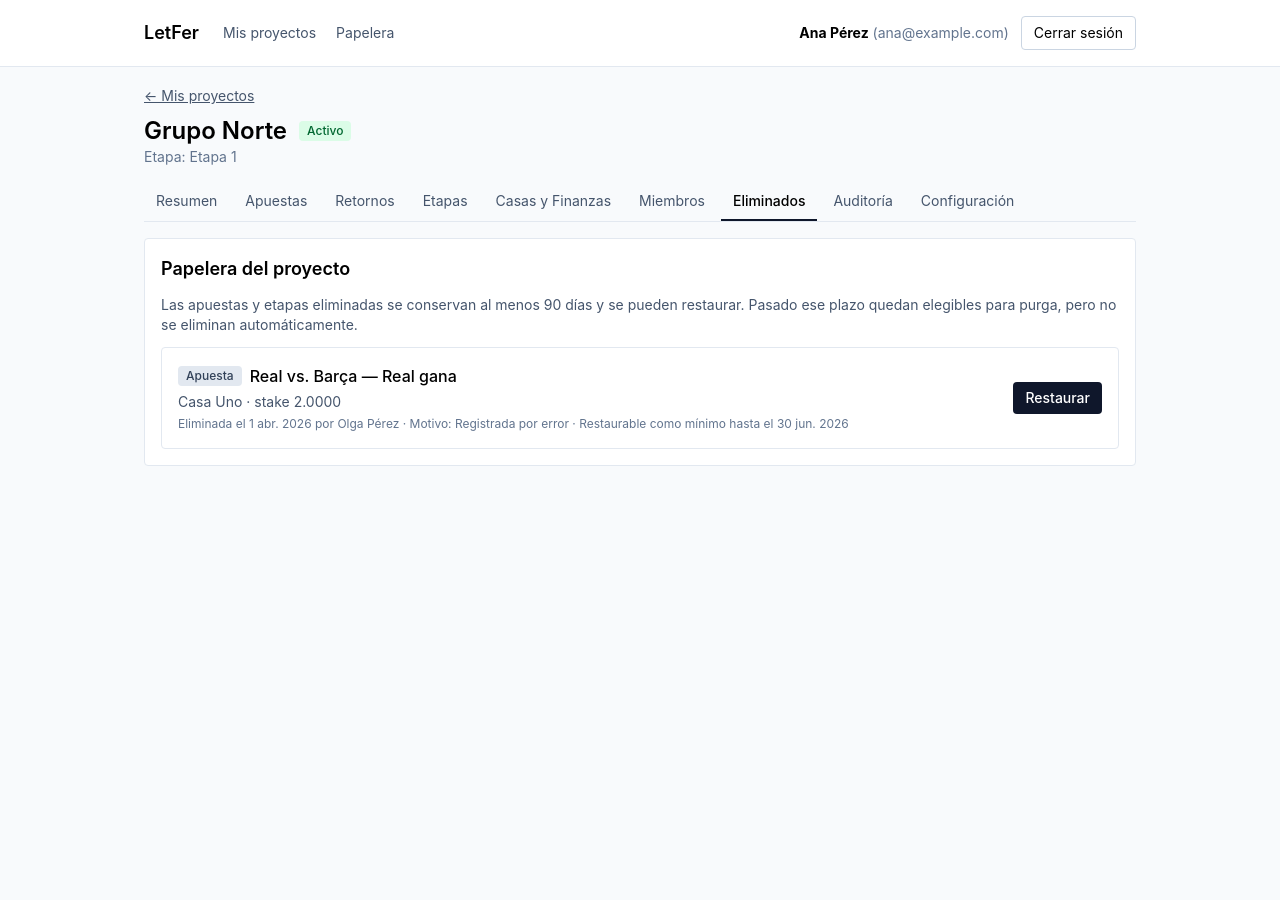
Scenario: restaurar una apuesta liquidada desde la papelera del proyecto (D-A11) › pide motivo y avisa que vuelve a registrar el ledger
Click the button with aria-label "Restaurar Real vs. Barça — Real gana".
click(1058, 398)  # box [1013,382,1102,414]
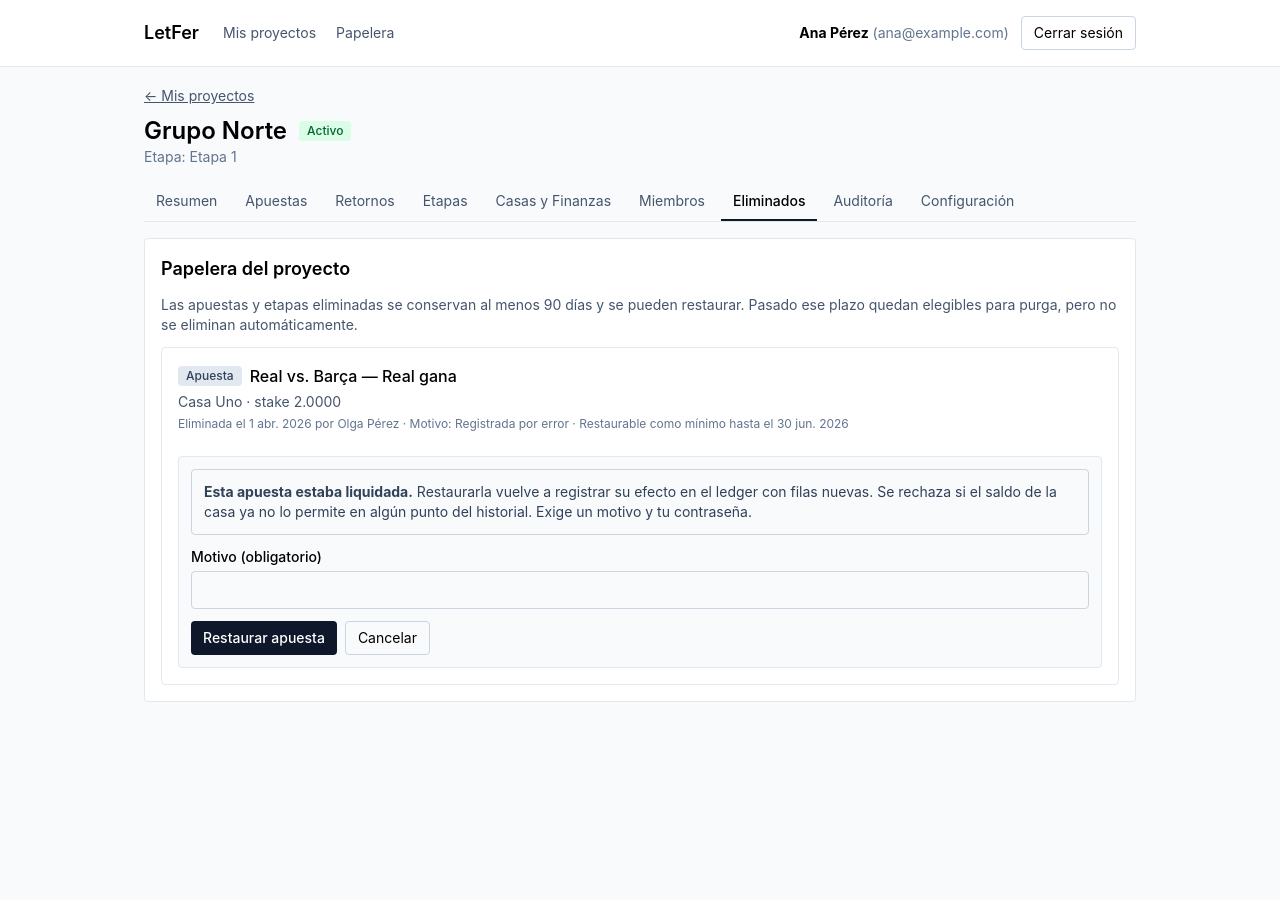
Expected: the text "vuelve a registrar su efecto en el ledger" is shown, [204,483,1057,520]
Click the button "Restaurar apuesta".
click(264, 638)  # box [191,621,337,655]
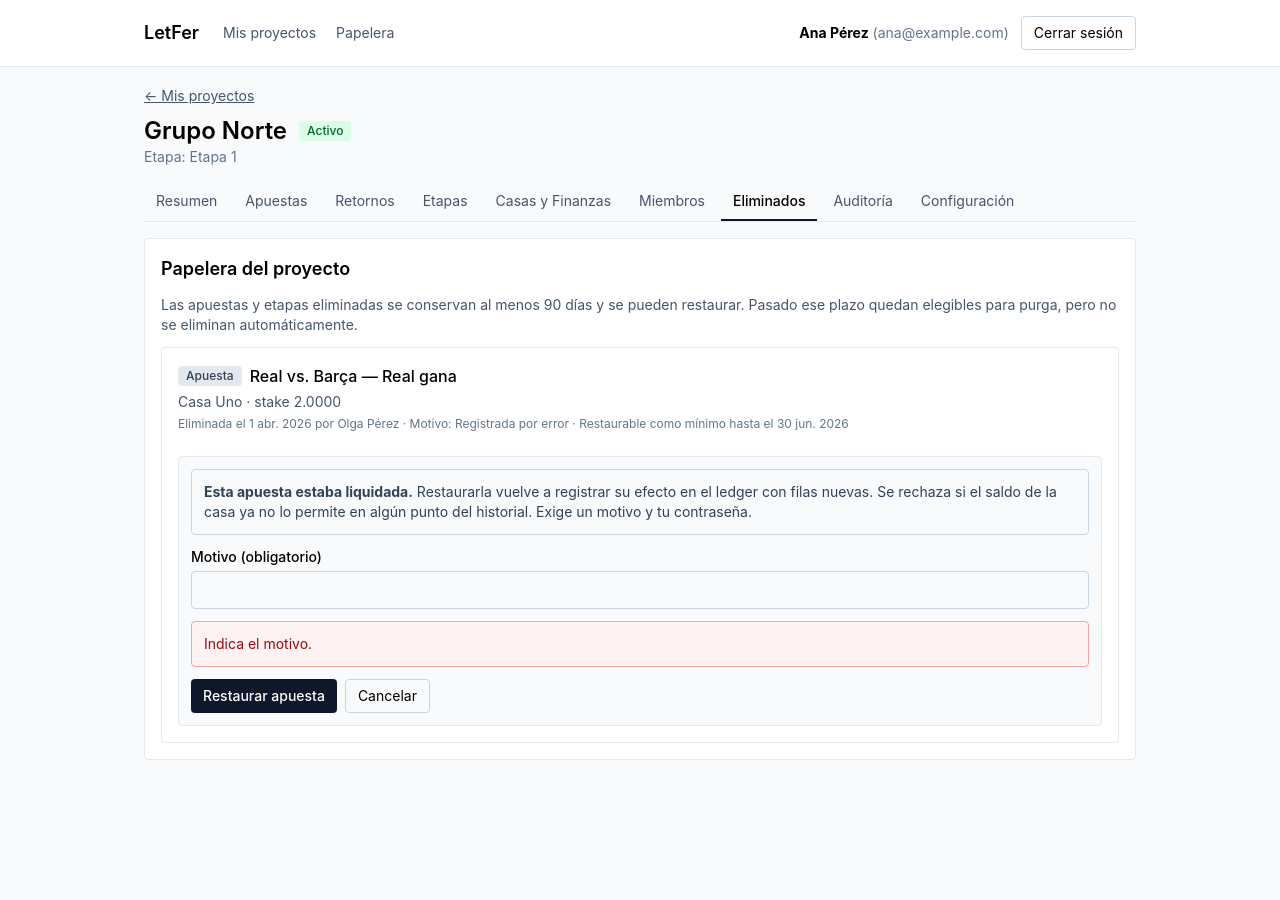
Expected: the text "Indica el motivo." is shown, [191,621,1089,667]
Type "Era correcta" into the field labelled "Motivo (obligatorio)".
click(640, 590); type("Era correcta")  # box [191,571,1089,609]
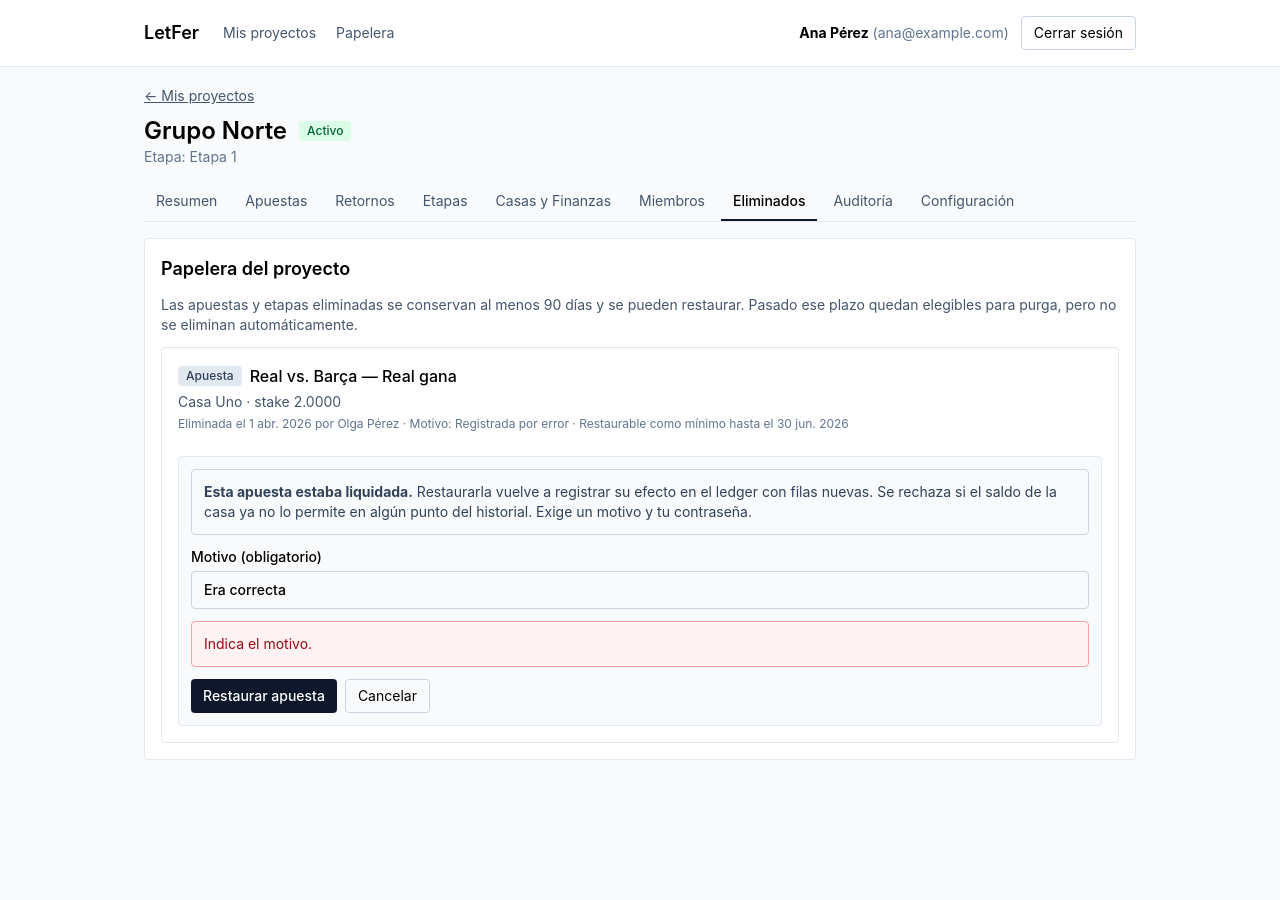
Click the button "Restaurar apuesta".
click(264, 696)  # box [191,679,337,713]
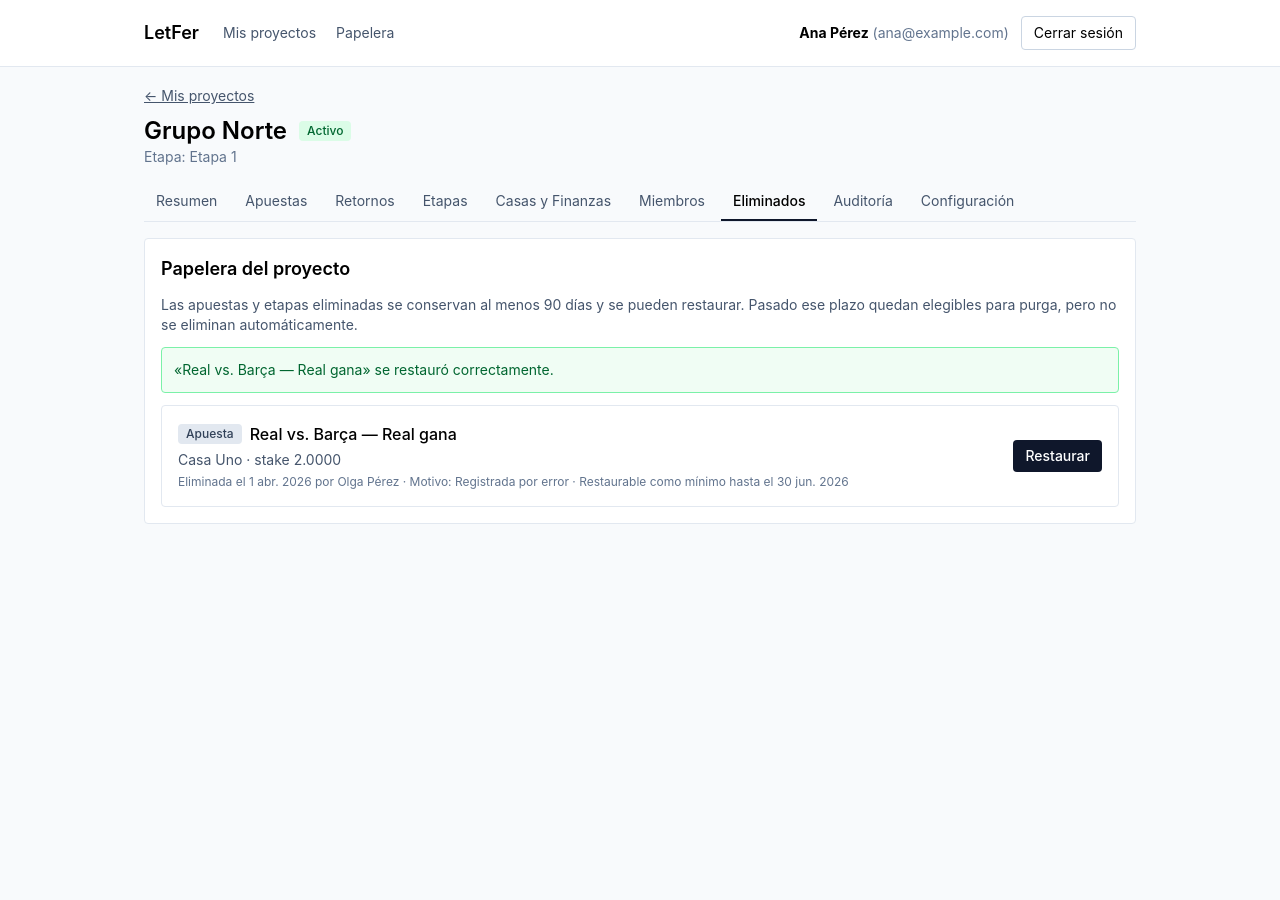
Expected: the text "«Real vs. Barça — Real gana» se restauró correctamente." is shown, [161,347,1119,393]
